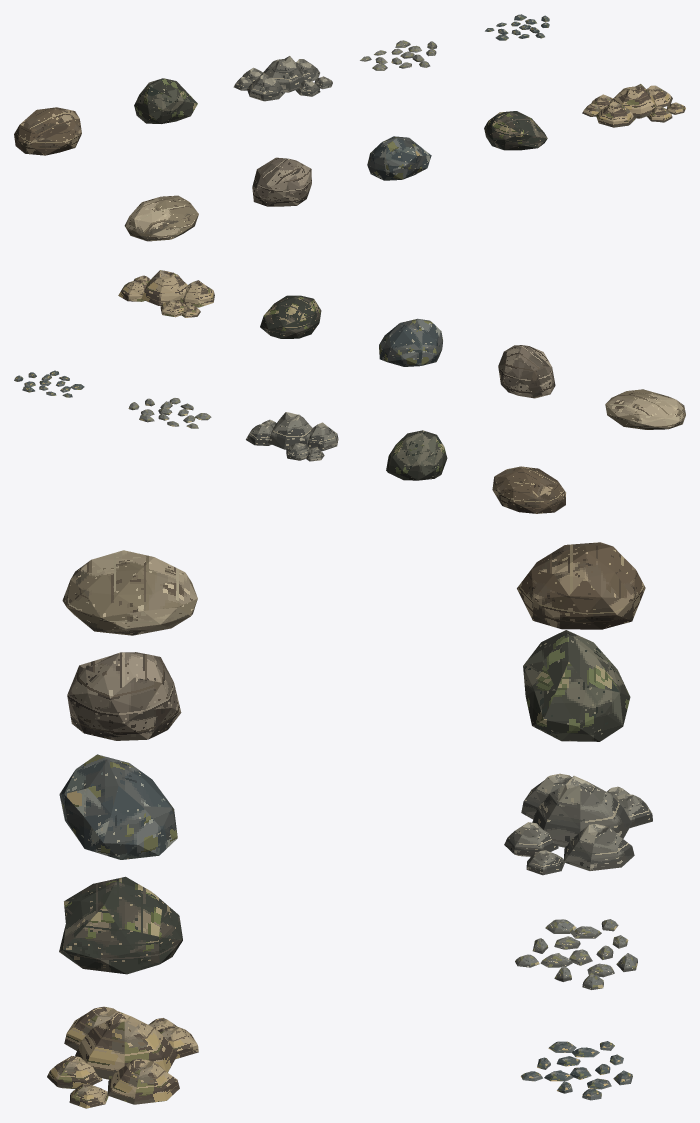
File: steppe_woodland_rocks.gltf
3 views of the same model, one above another, from view 1: azimuth 30°, elevation 25°; view 2: azimuth 150°, elevation 25°; view 3: azimuth 270°, elevation 25° (orthographic). The views are drawn at different scales.
Visible parts, largest first — view 1: COPY 09 | Woodland Rock Talus_mesh, CORE 03 | Broken Rock Patch_mesh, CORE 01 | Steppe Boulder_mesh, COPY 05 | Steppe Flat Stone_mesh, COPY 06 | Steppe Ridge Rock_mesh, CORE 02 | Forest Boulder_mesh, COPY 07 | Forest Moss Boulder_mesh, COPY 08 | Forest Lichen Stone_mesh, CORE 04 | Steppe Pebble Patch_mesh, COPY 10 | Woodland Pebble Scatter_mesh; view 2: COPY 09 | Woodland Rock Talus_mesh, CORE 03 | Broken Rock Patch_mesh, CORE 01 | Steppe Boulder_mesh, COPY 05 | Steppe Flat Stone_mesh, COPY 07 | Forest Moss Boulder_mesh, COPY 06 | Steppe Ridge Rock_mesh, CORE 02 | Forest Boulder_mesh, COPY 08 | Forest Lichen Stone_mesh, CORE 04 | Steppe Pebble Patch_mesh, COPY 10 | Woodland Pebble Scatter_mesh; view 3: COPY 09 | Woodland Rock Talus_mesh, CORE 03 | Broken Rock Patch_mesh, COPY 08 | Forest Lichen Stone_mesh, CORE 02 | Forest Boulder_mesh, COPY 07 | Forest Moss Boulder_mesh, COPY 05 | Steppe Flat Stone_mesh, CORE 01 | Steppe Boulder_mesh, COPY 06 | Steppe Ridge Rock_mesh, CORE 04 | Steppe Pebble Patch_mesh, COPY 10 | Woodland Pebble Scatter_mesh.
Boxes of the visible parts, box(x1,y1,x2,y2) form: COPY 09 | Woodland Rock Talus_mesh: box(582, 84, 685, 127); CORE 03 | Broken Rock Patch_mesh: box(233, 56, 332, 101); CORE 01 | Steppe Boulder_mesh: box(14, 107, 81, 155); COPY 05 | Steppe Flat Stone_mesh: box(124, 195, 198, 241); COPY 06 | Steppe Ridge Rock_mesh: box(252, 157, 311, 206); CORE 02 | Forest Boulder_mesh: box(134, 78, 197, 123); COPY 07 | Forest Moss Boulder_mesh: box(367, 136, 431, 180); COPY 08 | Forest Lichen Stone_mesh: box(484, 111, 547, 150); CORE 04 | Steppe Pebble Patch_mesh: box(360, 40, 437, 70); COPY 10 | Woodland Pebble Scatter_mesh: box(485, 14, 549, 40); COPY 09 | Woodland Rock Talus_mesh: box(118, 270, 214, 317); CORE 03 | Broken Rock Patch_mesh: box(246, 412, 338, 461); CORE 01 | Steppe Boulder_mesh: box(492, 466, 565, 513); COPY 05 | Steppe Flat Stone_mesh: box(605, 389, 685, 429); COPY 07 | Forest Moss Boulder_mesh: box(379, 318, 442, 366); COPY 06 | Steppe Ridge Rock_mesh: box(498, 345, 555, 398); CORE 02 | Forest Boulder_mesh: box(386, 430, 447, 480); COPY 08 | Forest Lichen Stone_mesh: box(260, 295, 321, 338); CORE 04 | Steppe Pebble Patch_mesh: box(128, 398, 211, 428); COPY 10 | Woodland Pebble Scatter_mesh: box(14, 370, 84, 397); COPY 09 | Woodland Rock Talus_mesh: box(47, 1006, 198, 1108); CORE 03 | Broken Rock Patch_mesh: box(504, 773, 652, 875); COPY 08 | Forest Lichen Stone_mesh: box(59, 876, 182, 974); CORE 02 | Forest Boulder_mesh: box(523, 630, 630, 741); COPY 07 | Forest Moss Boulder_mesh: box(59, 754, 177, 859); COPY 05 | Steppe Flat Stone_mesh: box(62, 550, 197, 635); CORE 01 | Steppe Boulder_mesh: box(517, 542, 645, 629); COPY 06 | Steppe Ridge Rock_mesh: box(67, 652, 181, 740); CORE 04 | Steppe Pebble Patch_mesh: box(515, 919, 637, 989); COPY 10 | Woodland Pebble Scatter_mesh: box(521, 1041, 632, 1100).
Bounding box in the file's own units: 3.47 × 0.2528 × 1.66.
Materials: 1 (1 with a texture image).
